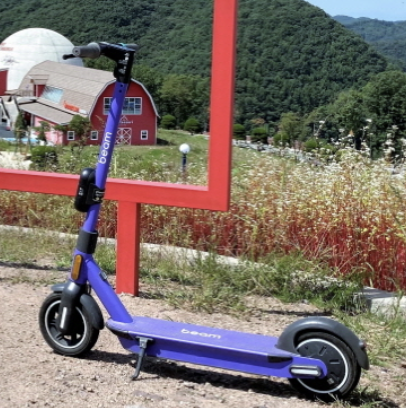scooter: (39, 36, 369, 401)
